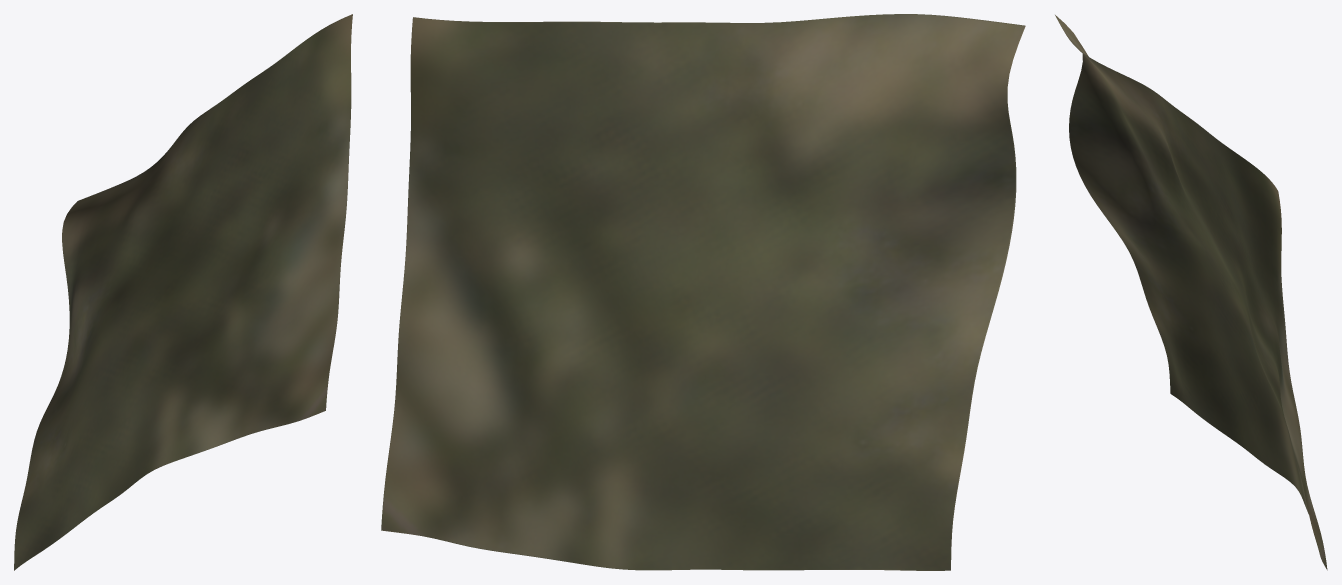
File: ground_mid_03_04.obj
The picture shows the model from 3 angles, left to right: view 1: azimuth 30°, elevation 25°; view 2: azimuth 150°, elevation 25°; view 3: azimuth 270°, elevation 25°; orthographic projection. The views are drawn at different scales.
Parts seen in each view (by area): view 1: ground_mid_03_04; view 2: ground_mid_03_04; view 3: ground_mid_03_04.
Boxes of the visible parts, box(x1,y1,x2,y2) form: ground_mid_03_04: box(14, 14, 352, 570); ground_mid_03_04: box(381, 14, 1025, 570); ground_mid_03_04: box(1055, 15, 1327, 570).
Size of the model in its own units: 200 by 200 by 130.
1 material, 1 textured.
